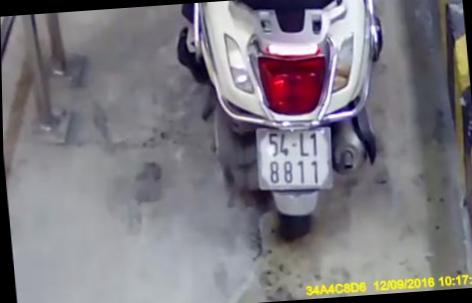LP: (249, 118, 336, 198)
